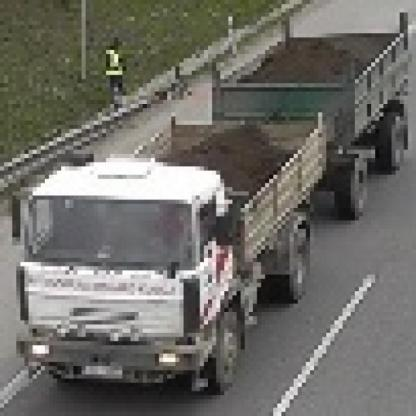truck: (17, 10, 416, 397)
